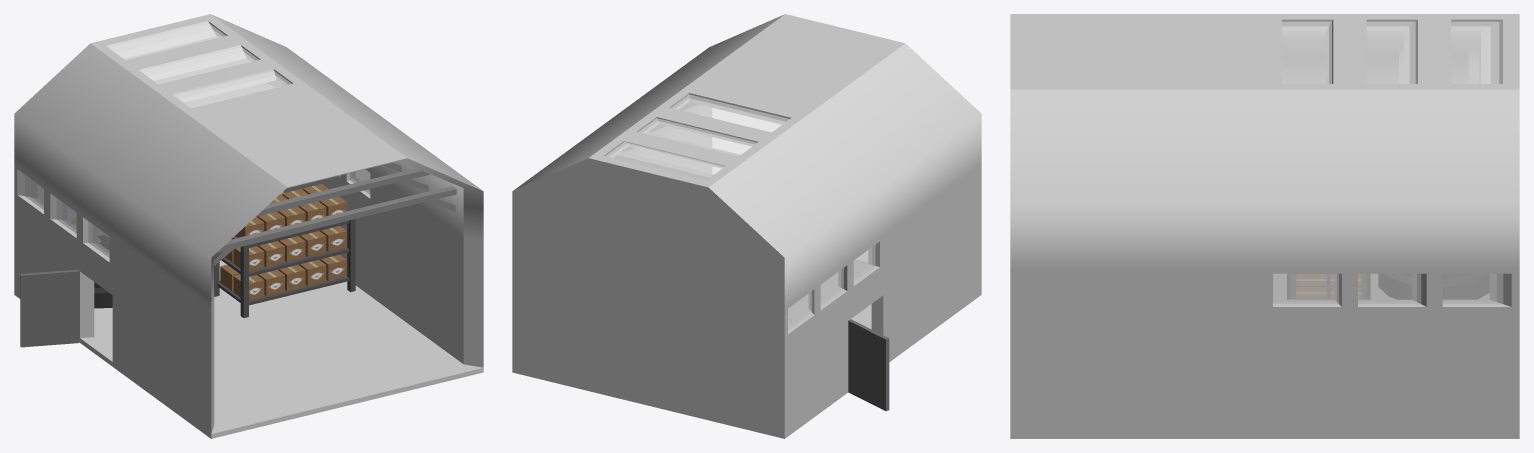
File: Factory.fbx
3 views of the same model, side by side, from view 1: azimuth 30°, elevation 25°; view 2: azimuth 150°, elevation 25°; view 3: azimuth 270°, elevation 25° (orthographic). The views are drawn at different scales.
Parts seen in each view (by area): view 1: Cube.014, Cube.011, Cube.015, Cube.019, Cube.010; view 2: Cube.014, Cube.015, Cube.010, Cube.019; view 3: Cube.014, Cube.015, Arm.008, Cube.011, Cube.019.
Boxes of the visible parts, x1,y1,x2,y2 form: Cube.014: [14, 14, 483, 438]; Cube.011: [214, 184, 355, 317]; Cube.015: [25, 23, 370, 257]; Cube.019: [214, 80, 456, 265]; Cube.010: [20, 269, 79, 347]; Cube.014: [512, 14, 981, 438]; Cube.015: [606, 94, 875, 329]; Cube.010: [848, 319, 889, 411]; Cube.019: [614, 102, 739, 179]; Cube.014: [1010, 14, 1519, 438]; Cube.015: [1273, 21, 1503, 304]; Arm.008: [1378, 274, 1489, 299]; Cube.011: [1287, 274, 1370, 299]; Cube.019: [1399, 48, 1478, 83].
Bounding box in the file's own units: 1831 × 1268 × 1944.
9 materials, 1 textured.
